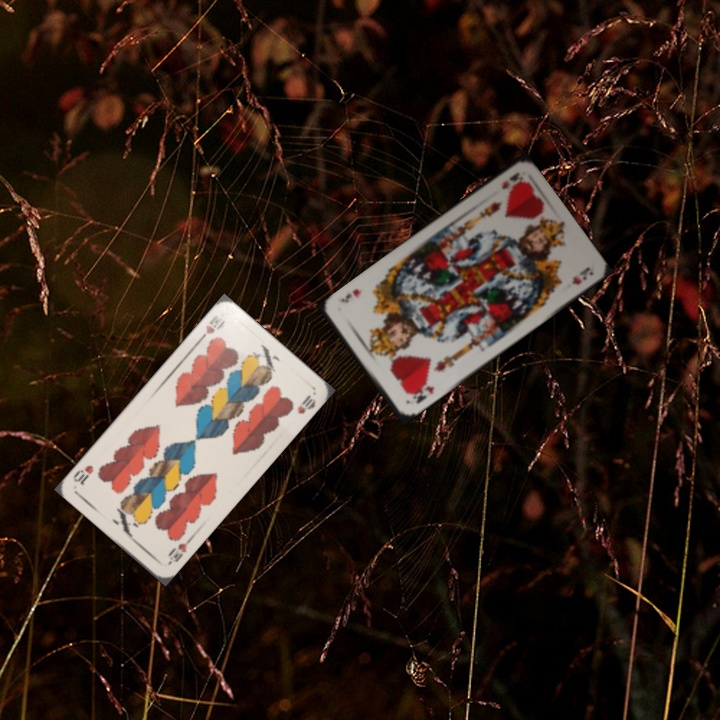H10: (194, 311, 228, 345), (163, 534, 194, 568)
HK: (407, 379, 437, 406), (498, 169, 522, 193)
